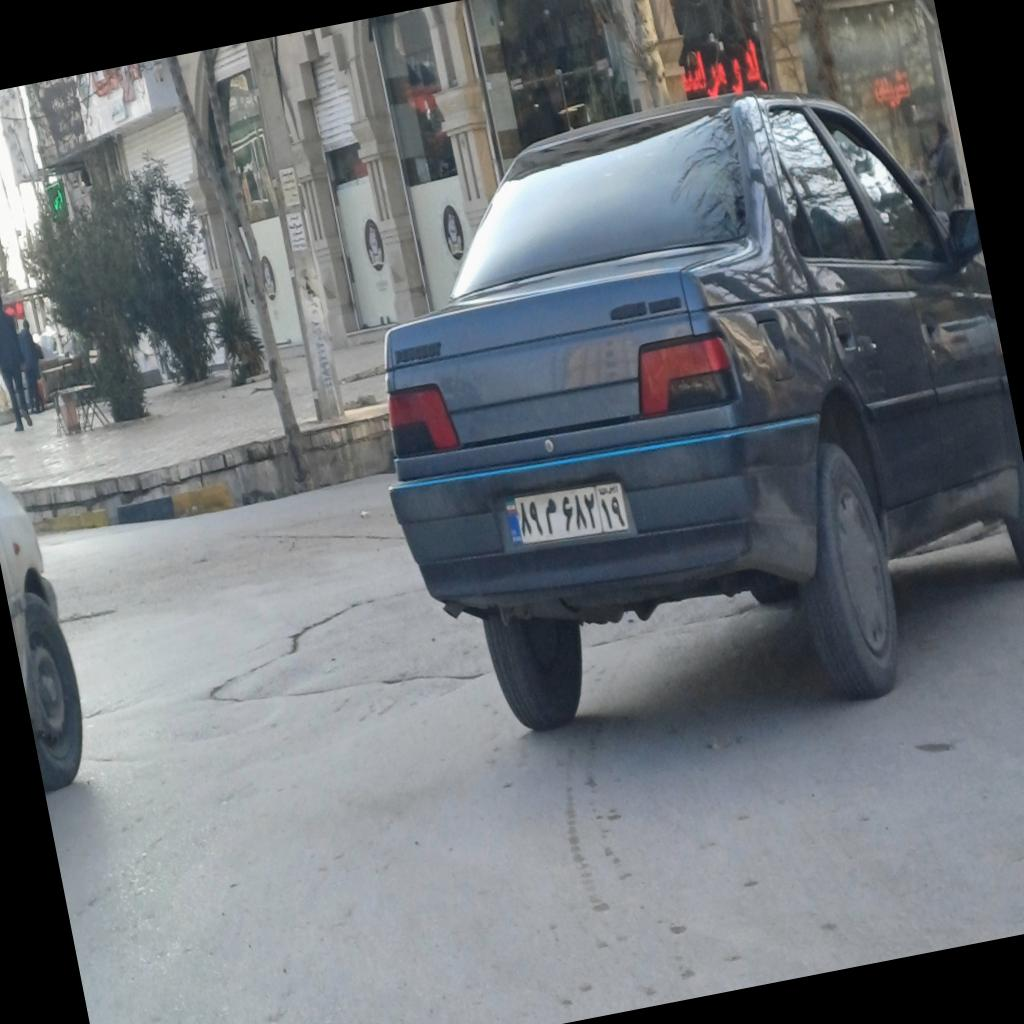Plates: (502, 474, 630, 552)
